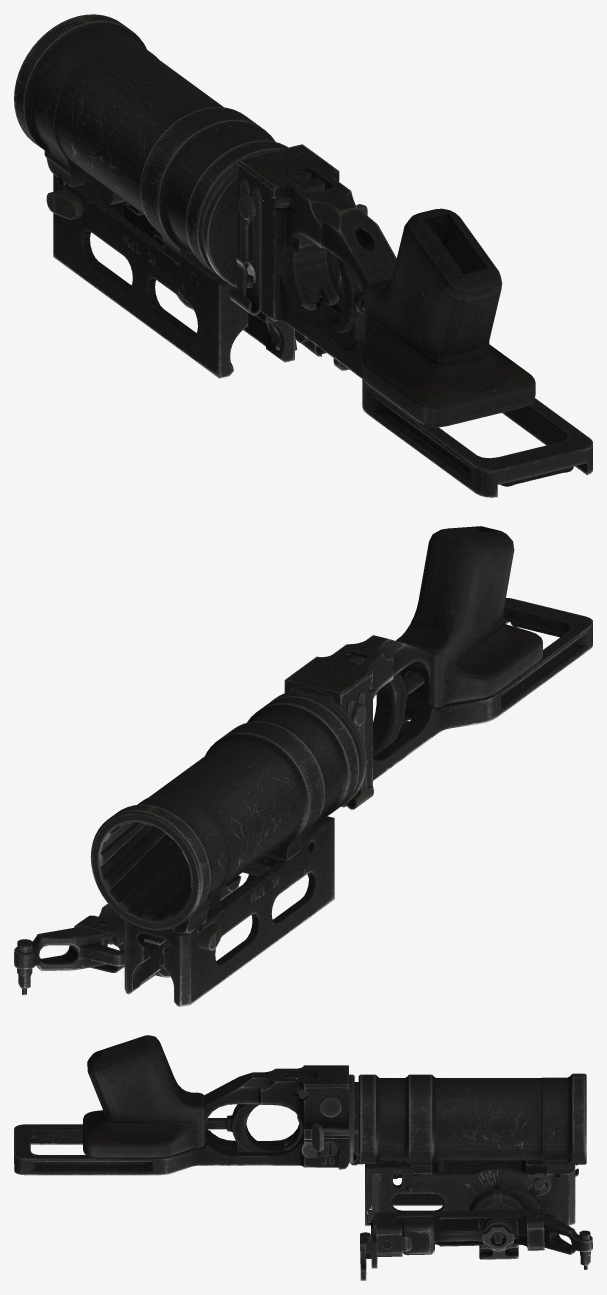
3 renders of one model, top to bottom at view 1: azimuth 30°, elevation 25°; view 2: azimuth 150°, elevation 25°; view 3: azimuth 270°, elevation 25°, orthographic. The views are drawn at different scales.
Visible parts, largest first — view 1: TW_62e7e7bbe6da9612f743f1e0_range25_PZ_Import; view 2: TW_62e7e7bbe6da9612f743f1e0_range25_PZ_Import; view 3: TW_62e7e7bbe6da9612f743f1e0_range25_PZ_Import.
Part boxes in pixels (x1=…): TW_62e7e7bbe6da9612f743f1e0_range25_PZ_Import: x1=14, y1=14, x2=592, y2=497; TW_62e7e7bbe6da9612f743f1e0_range25_PZ_Import: x1=14, y1=526, x2=592, y2=1006; TW_62e7e7bbe6da9612f743f1e0_range25_PZ_Import: x1=14, y1=1035, x2=592, y2=1280.
Bounding box in the file's own units: 0.0529 × 0.187 × 0.07.
Materials: 1 (1 with a texture image).
